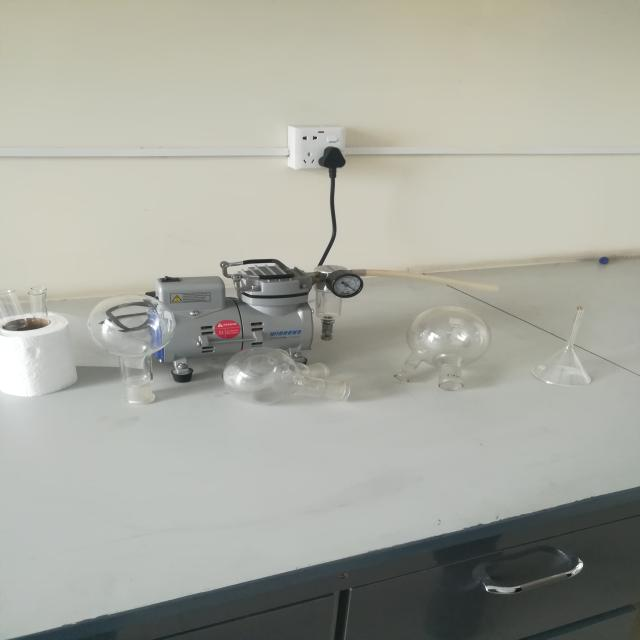Funnel: (527, 297, 621, 404)
Round_Bottom_Flask_Borosilicate_Glass_1_Neck: (80, 271, 187, 434)
Round_Bottom_Flask_Borosilicate_Glass_2_Neck: (372, 289, 512, 418)
Round_Bottom_Flask_Borosilicate_Glass_3_Neck: (207, 323, 363, 435)
